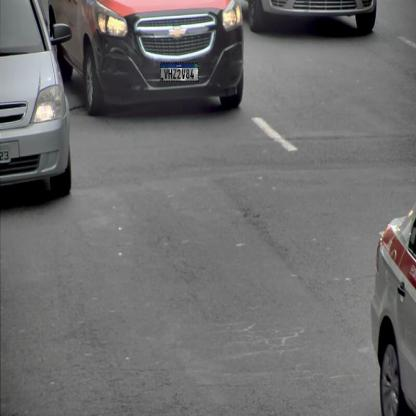PlacaM: (160, 62, 199, 82)
